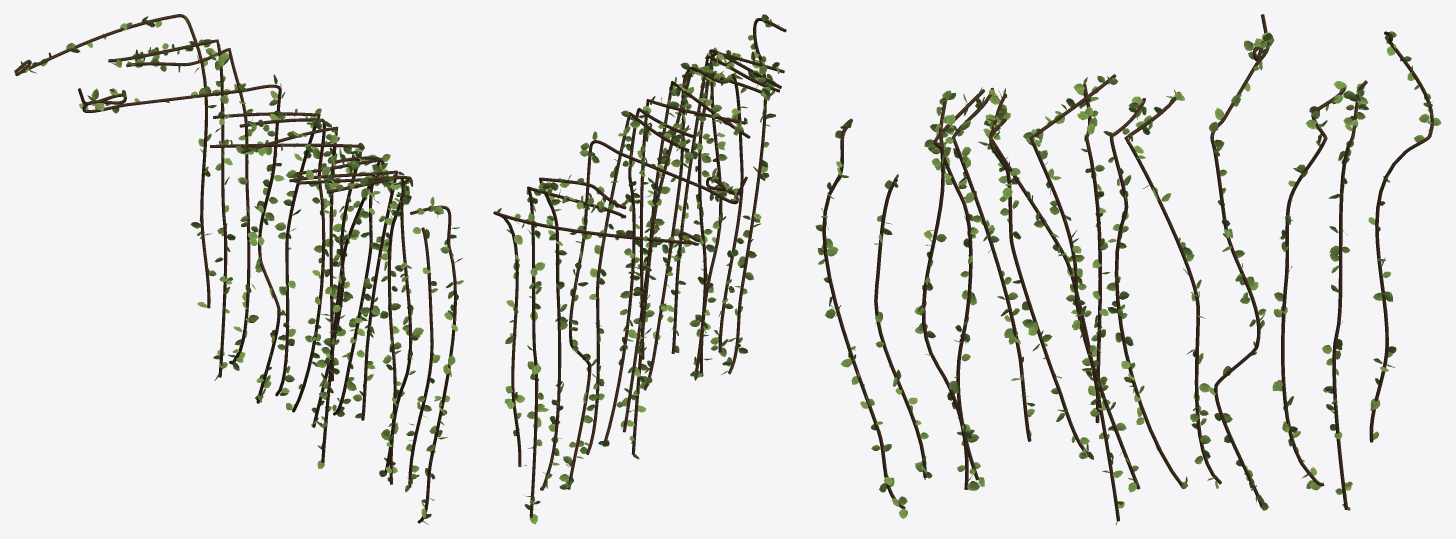
File: Vines.fbx
The picture shows the model from 3 angles, left to right: view 1: azimuth 30°, elevation 25°; view 2: azimuth 150°, elevation 25°; view 3: azimuth 270°, elevation 25°; orthographic projection. The views are drawn at different scales.
Visible parts, largest first — view 1: Vines; view 2: Vines; view 3: Vines.
Part boxes in pixels (x1,y1,x2,y2): Vines: [14, 14, 463, 524]; Vines: [493, 14, 786, 524]; Vines: [815, 14, 1441, 524].
Size of the model in its own units: 214 by 381 by 520.
